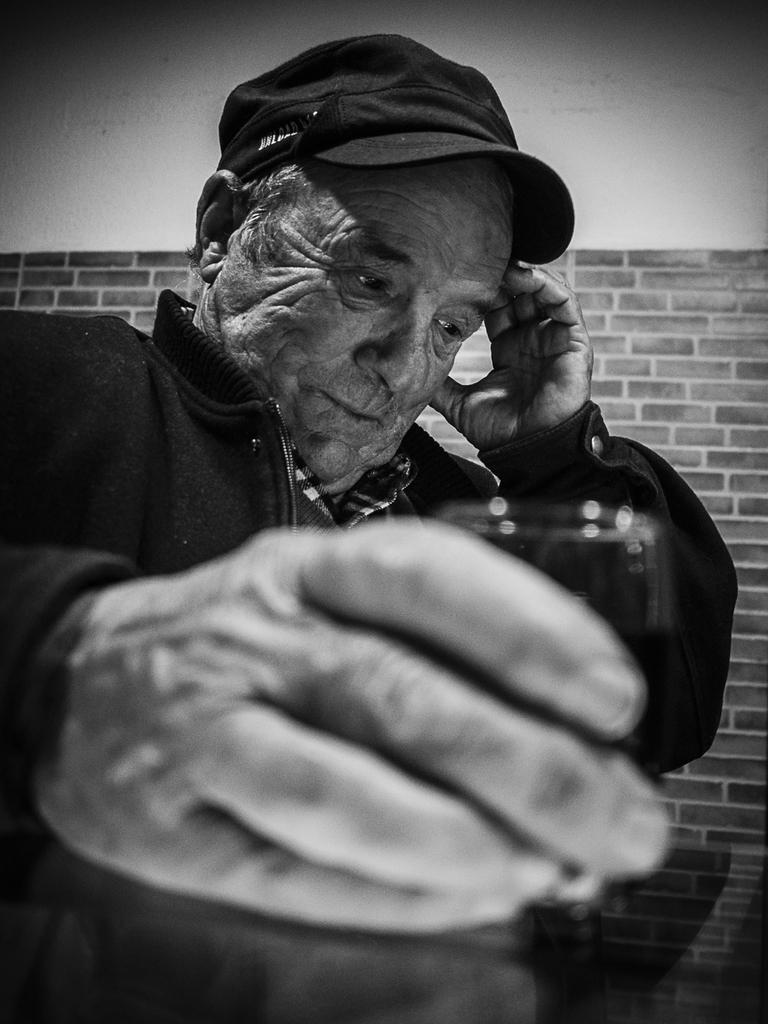Hat: (210, 33, 576, 267)
